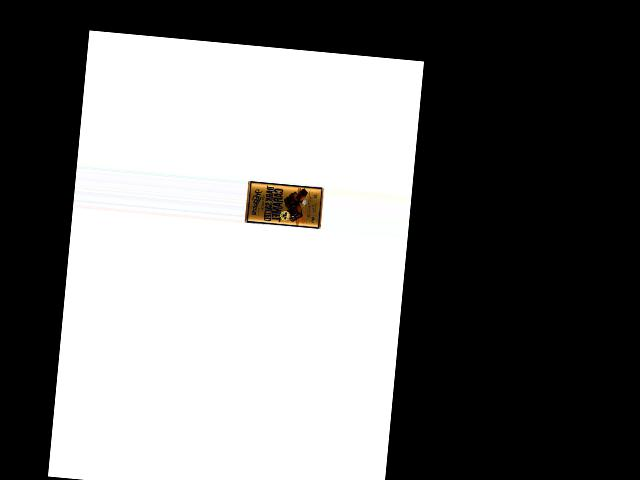chocolate: (245, 179, 326, 232)
